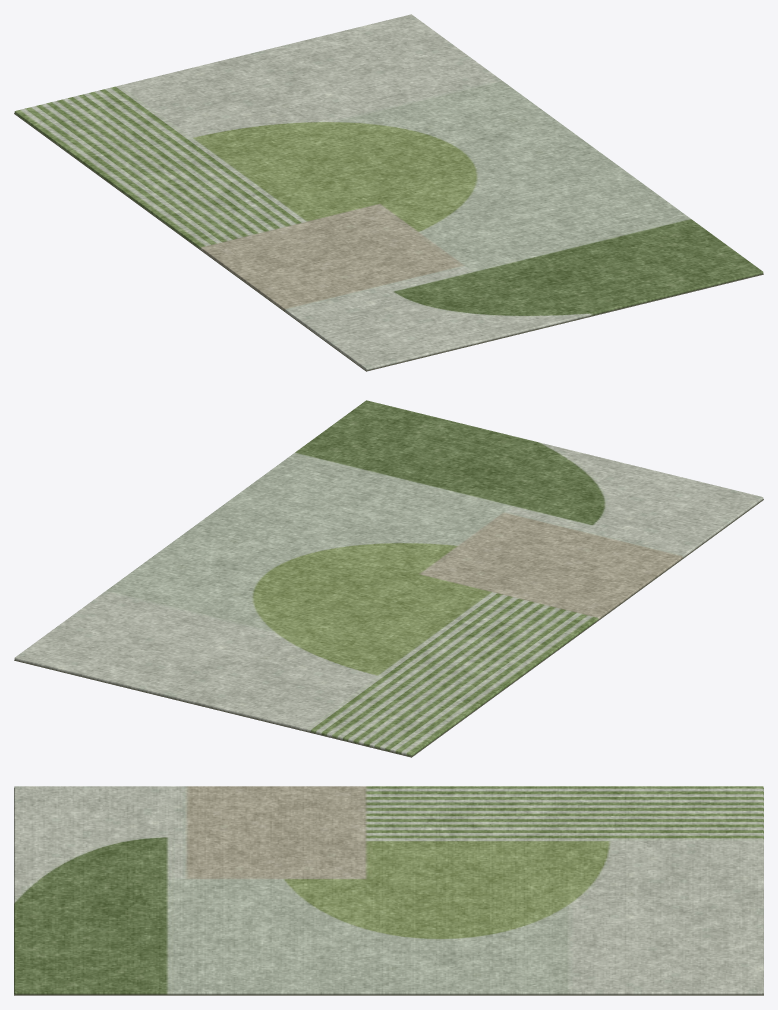
File: prisco-olive-rug.glb
3 views of the same model, one above another, from view 1: azimuth 30°, elevation 25°; view 2: azimuth 150°, elevation 25°; view 3: azimuth 270°, elevation 25° (orthographic). The views are drawn at different scales.
Visible parts, largest first — view 1: Printed low-pile rug face, Continuous color-matched bound edge, 30 x 46in low-profile backing; view 2: Printed low-pile rug face, Continuous color-matched bound edge, 30 x 46in low-profile backing; view 3: Printed low-pile rug face, Continuous color-matched bound edge, 30 x 46in low-profile backing.
Part boxes in pixels (<box>): Printed low-pile rug face: <box>14,14,763,370</box>; Continuous color-matched bound edge: <box>15,112,762,370</box>; 30 x 46in low-profile backing: <box>14,113,763,371</box>; Printed low-pile rug face: <box>14,400,763,756</box>; Continuous color-matched bound edge: <box>15,498,762,756</box>; 30 x 46in low-profile backing: <box>14,499,763,757</box>; Printed low-pile rug face: <box>14,786,763,994</box>; Continuous color-matched bound edge: <box>14,788,763,994</box>; 30 x 46in low-profile backing: <box>14,994,763,995</box>.
Size of the model in its own units: 0.762 by 0.006 by 1.17.
Materials: 3 (2 with a texture image).
